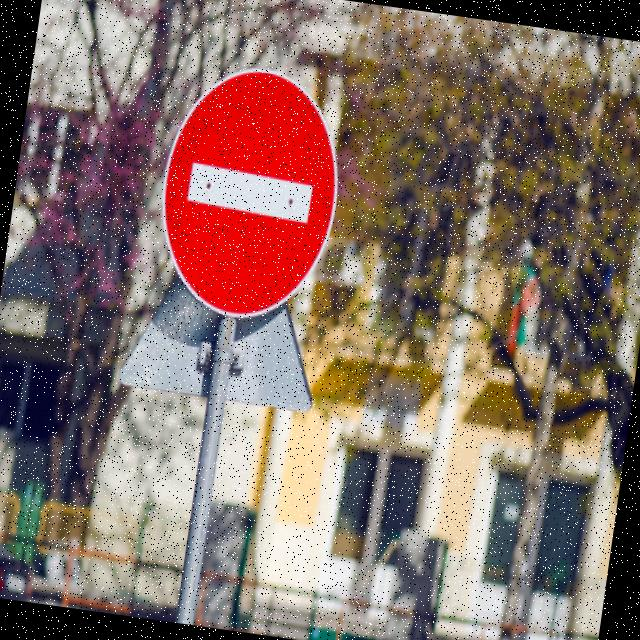do_not_enter: (144, 49, 359, 334)
